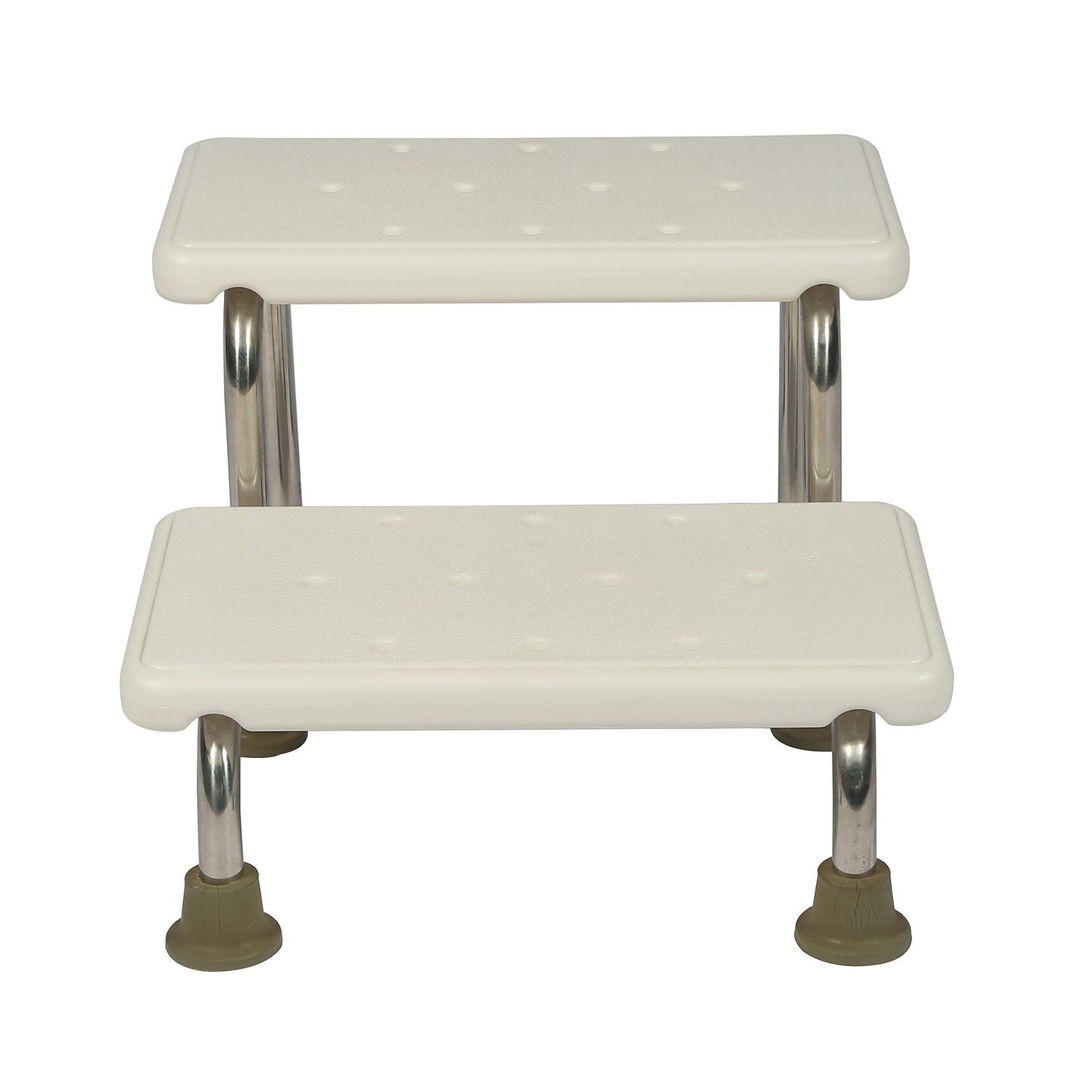stool: (123, 122, 1030, 970)
